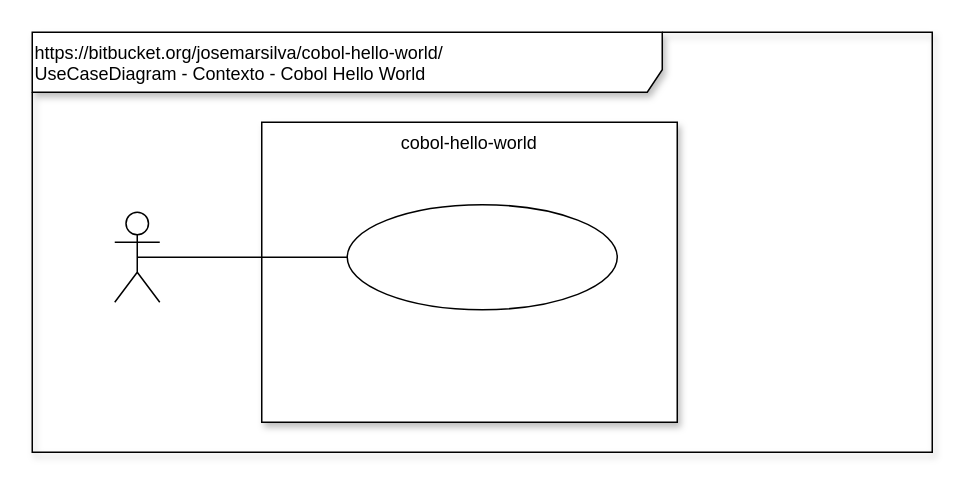
The diagram is 968 pixels wide and 489 high, and some of its shapes have lost their labels. The shapes that lost their labels are listed below. From the top down, each one's centre as x and y in pixels, then its label:
point (136, 256): Usuário
point (481, 256): Executar aplicação Cobol Hello World
